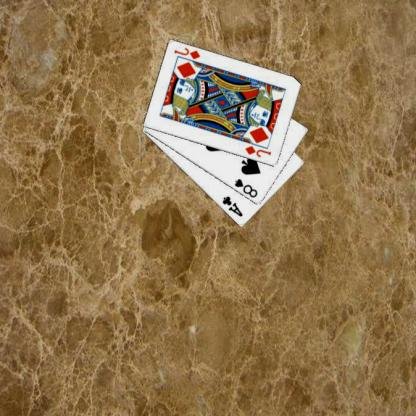8S: (233, 176, 260, 200)
AC: (222, 194, 246, 218)
JD: (244, 143, 274, 159), (174, 45, 204, 61)
